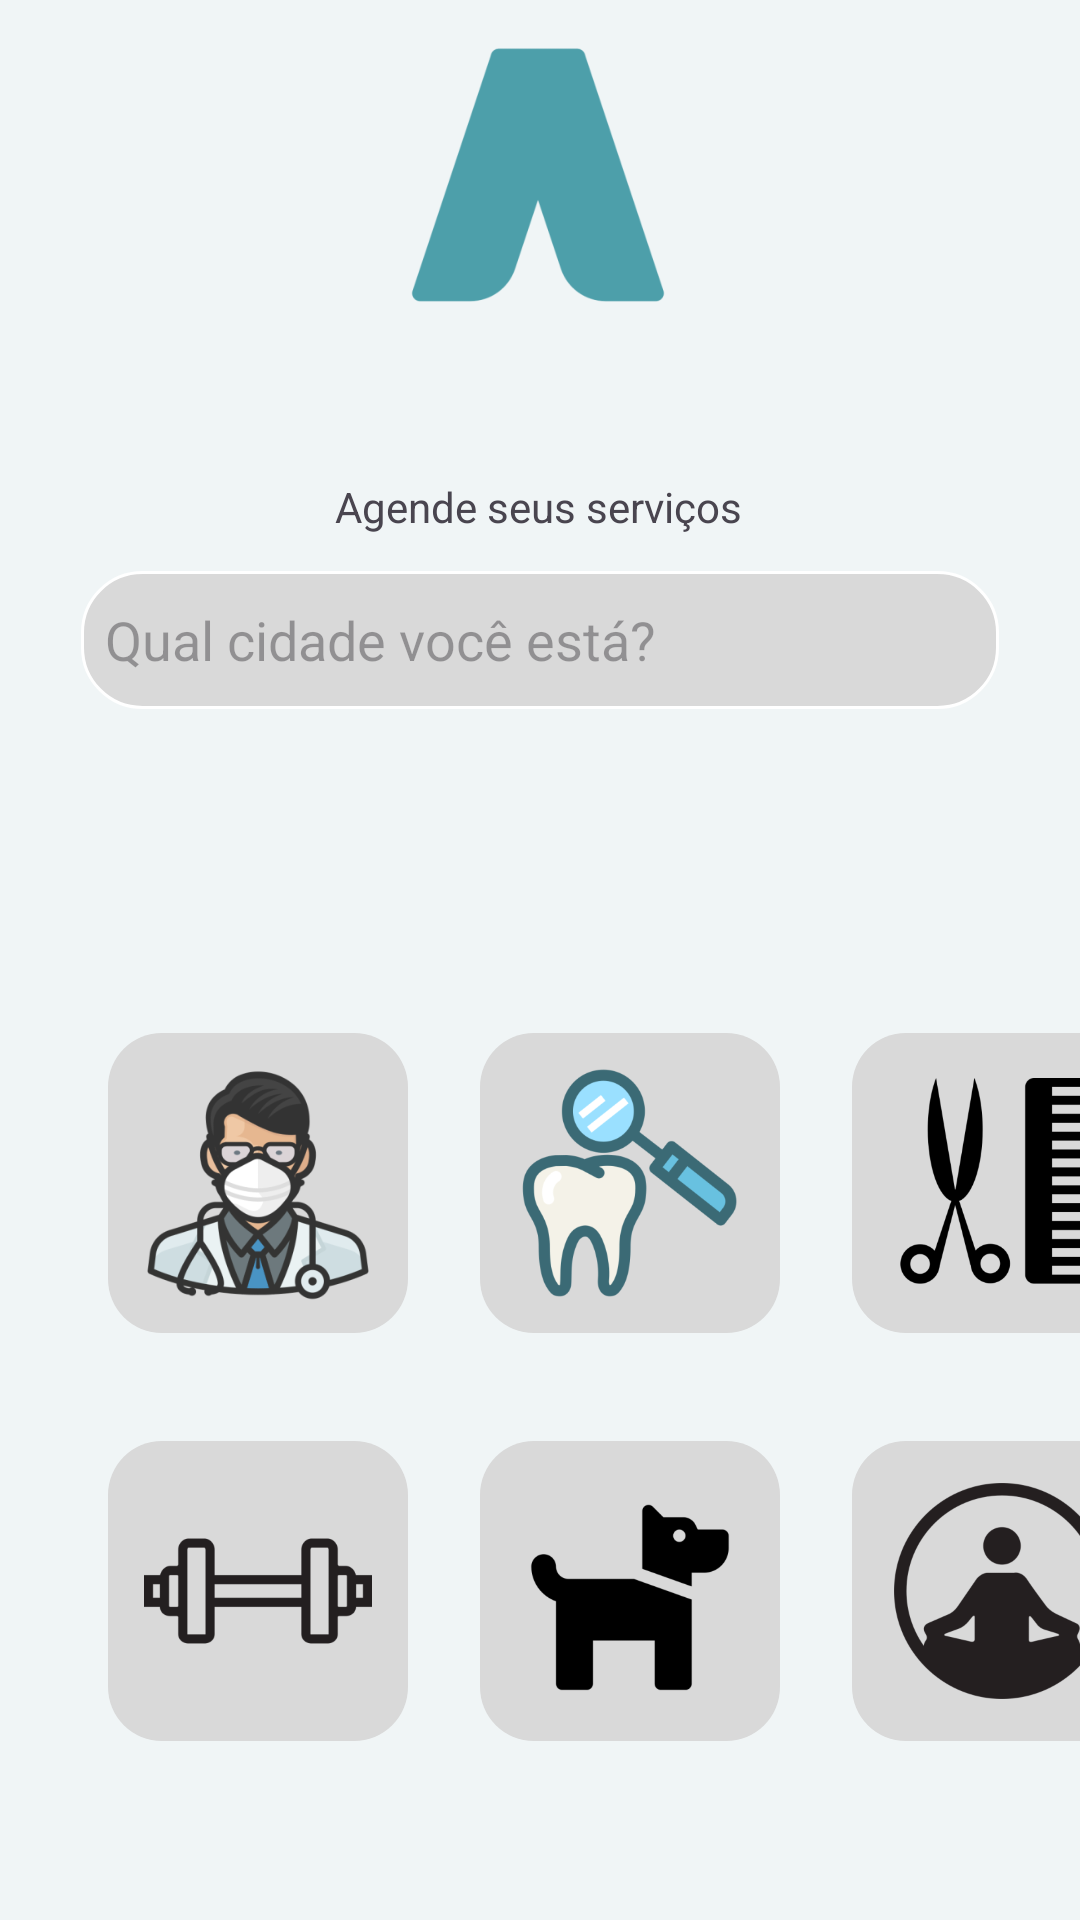

Icons on this 1080×1920 Android screen, each with the point to tap as [x,y]:
dental checking: [630,1183]
doctor: [258,1183]
gym: [258,1591]
pet shop: [630,1591]
